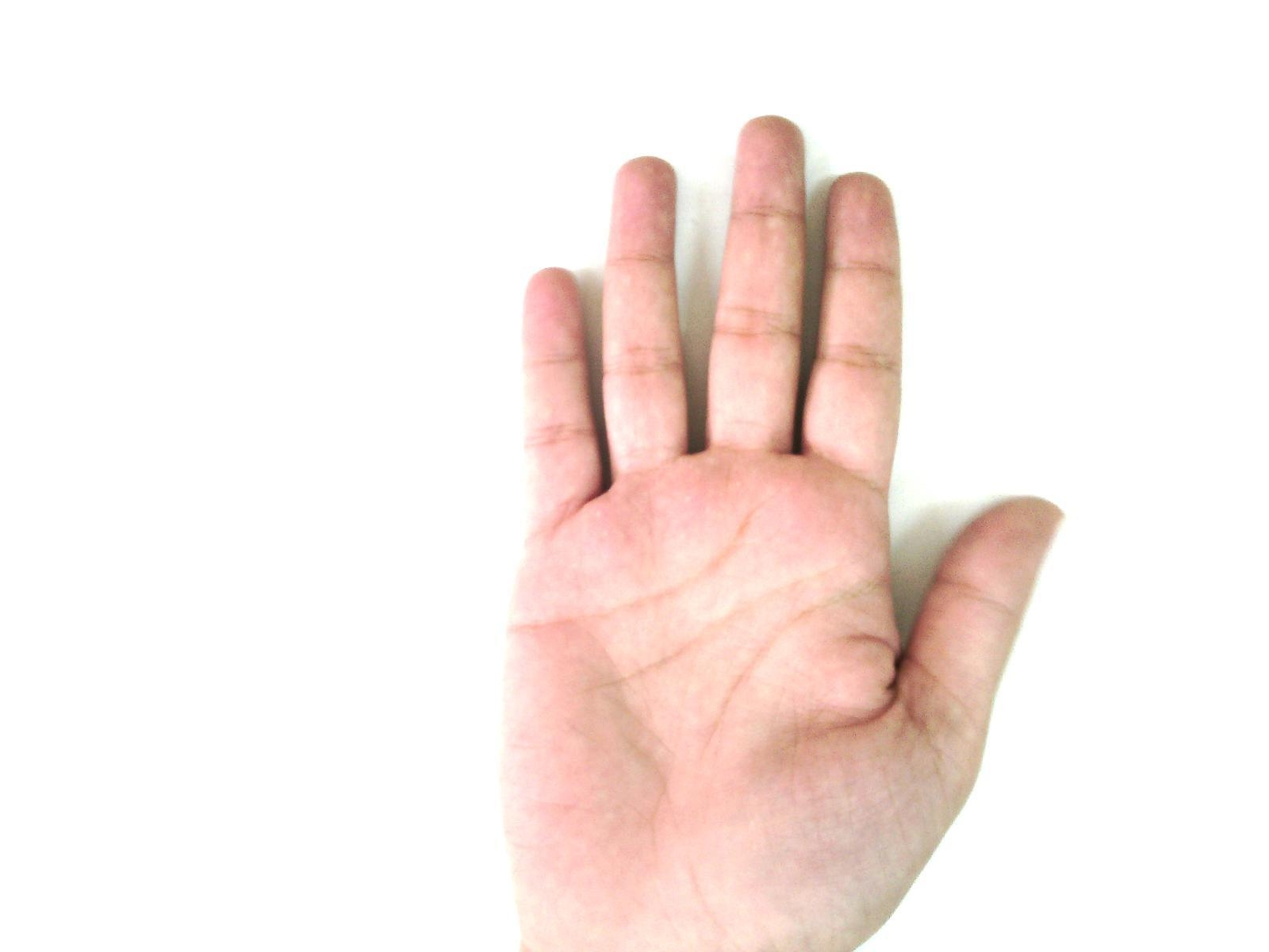open_palm: (496, 114, 1067, 951)
